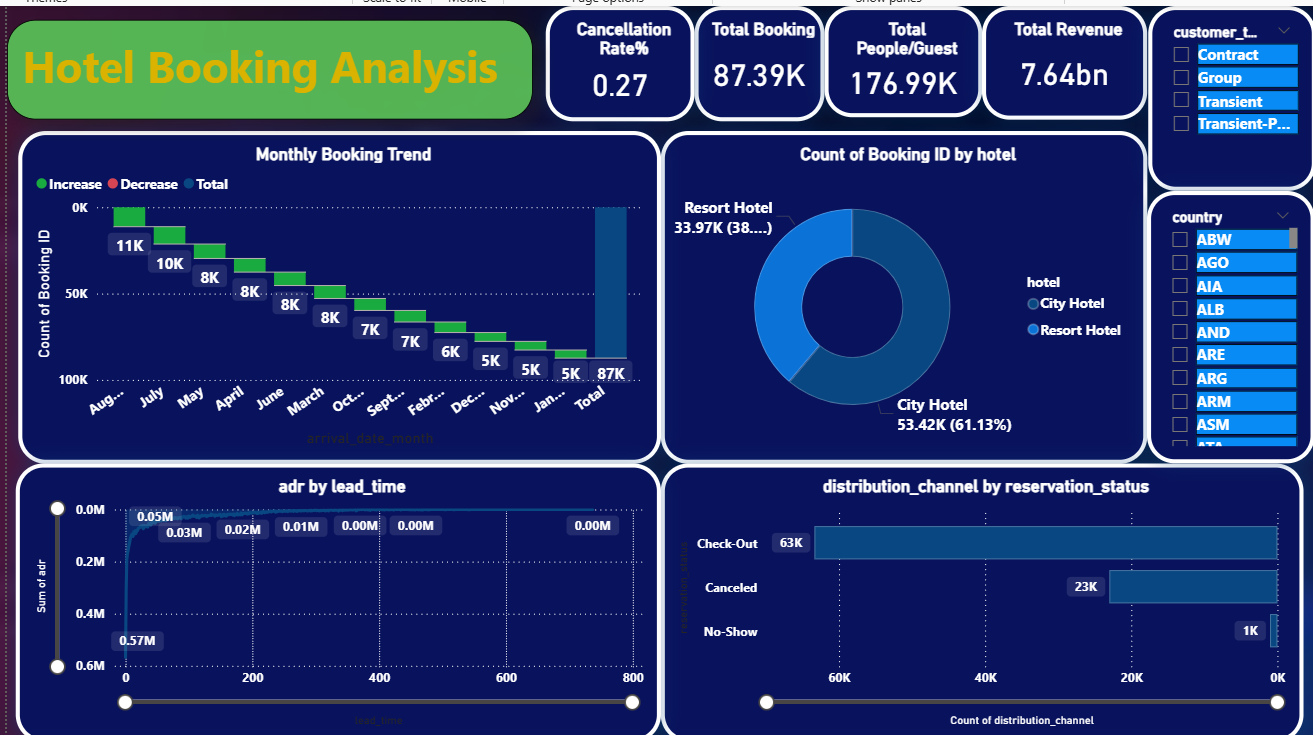

This screenshot's page, from the dashboard's own definition file:
{"tool":"powerbi","page":{"name":"Page 1","canvas":[1280,720],"ordinal":0},"visuals":[{"type":"card","title":"Total Booking","fields":{"Values":["Count(Hotel Bookings (1).Booking ID)"]},"box":[672.6,0,127.2,112.5],"z":0},{"type":"card","title":"Cancellation Rate%","fields":{"Values":["Avg(Hotel Bookings (1).is_canceled)"]},"box":[527,0,145.5,112.5],"z":1000},{"type":"card","title":"Total People/Guest","fields":{"Values":["Sum(Hotel Bookings (1).total no.of people)"]},"box":[799.7,0,154.1,108.8],"z":4000},{"type":"card","title":"Total Revenue","fields":{"Values":["Sum(Hotel Bookings (1).Total revenue)"]},"box":[953.8,0,161.4,111.3],"z":5000},{"type":"pieChart","fields":{"Category":["Hotel Bookings (1).hotel"],"Y":["CountNonNull(Hotel Bookings (1).Booking ID)"]},"box":[639.5,122.1,476.2,325.2],"z":6000},{"type":"waterfallChart","title":"Monthly Booking Trend","fields":{"Category":["Hotel Bookings (1).arrival_date_month"],"Y":["CountNonNull(Hotel Bookings (1).Booking ID)"]},"box":[11,122.1,628.5,325.2],"z":7000},{"type":"barChart","title":" distribution_channel by reservation_status","fields":{"Category":["Hotel Bookings (1).reservation_status"],"Y":["CountNonNull(Hotel Bookings (1).distribution_channel)"]},"box":[639.5,447.3,628.5,273.1],"z":8000},{"type":"areaChart","title":" adr by lead_time","fields":{"Category":["Hotel Bookings (1).lead_time"],"Y":["Sum(Hotel Bookings (1).adr)"]},"box":[8.2,447.3,631.2,273.1],"z":9000},{"type":"slicer","fields":{"Values":["Hotel Bookings (1).customer_type"]},"box":[1116.4,0,163.9,181],"z":10000},{"type":"slicer","fields":{"Values":["Hotel Bookings (1).country"]},"box":[1115.2,181,163.9,266.6],"z":11000},{"type":"textbox","box":[0,13.7,514.6,97.4],"z":13000}]}

Visuals, with their boxes in screenshot pixels (x1, y1, x2, y2):
"Total Booking" card: bbox=[691, 7, 819, 120]
"Cancellation Rate%" card: bbox=[544, 7, 691, 120]
"Total People/Guest" card: bbox=[819, 7, 974, 116]
"Total Revenue" card: bbox=[974, 7, 1137, 119]
pieChart - Hotel Bookings (1).hotel x CountNonNull(Hotel Bookings (1).Booking ID): bbox=[658, 130, 1137, 457]
"Monthly Booking Trend" waterfallChart: bbox=[25, 130, 658, 457]
" distribution_channel by reservation_status" barChart: bbox=[658, 457, 1290, 732]
" adr by lead_time" areaChart: bbox=[22, 457, 658, 732]
slicer - Hotel Bookings (1).customer_type: bbox=[1138, 7, 1303, 189]
slicer - Hotel Bookings (1).country: bbox=[1137, 189, 1302, 458]
textbox: bbox=[14, 21, 532, 119]
